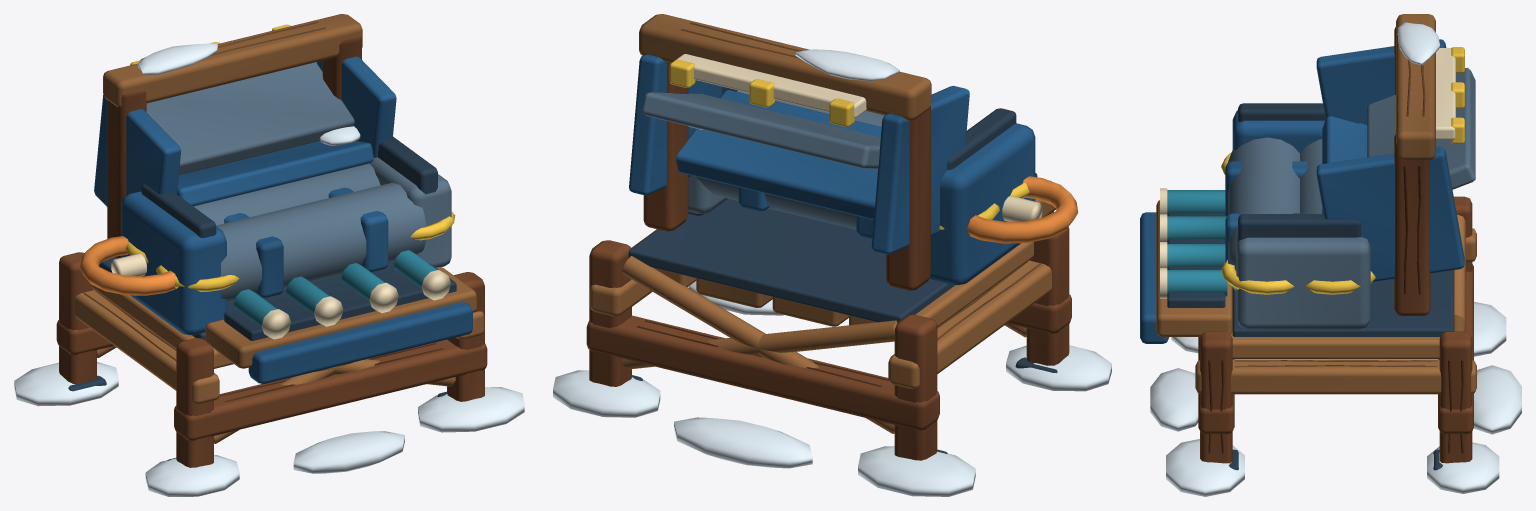
The model's file is intake_machine.glb.
The picture shows the model from 3 angles, left to right: view 1: azimuth 30°, elevation 25°; view 2: azimuth 150°, elevation 25°; view 3: azimuth 270°, elevation 25°; orthographic projection. The views are drawn at different scales.
Visible parts, largest first — view 1: intake_machine; view 2: intake_machine; view 3: intake_machine.
Boxes of the visible parts, x1,y1,x2,y2 form: intake_machine: (14,14,524,496); intake_machine: (553,14,1111,496); intake_machine: (1140,14,1521,496).
Size of the model in its own units: 2.51 by 2.12 by 2.1.
